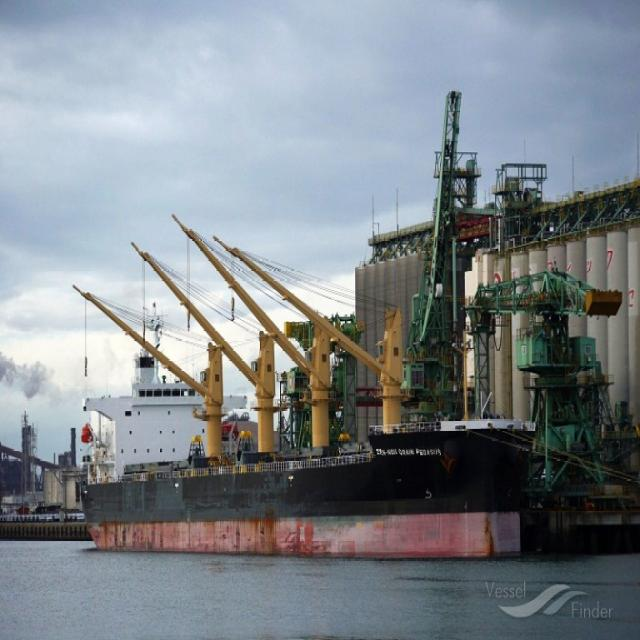OCR: (370, 439, 444, 458)
